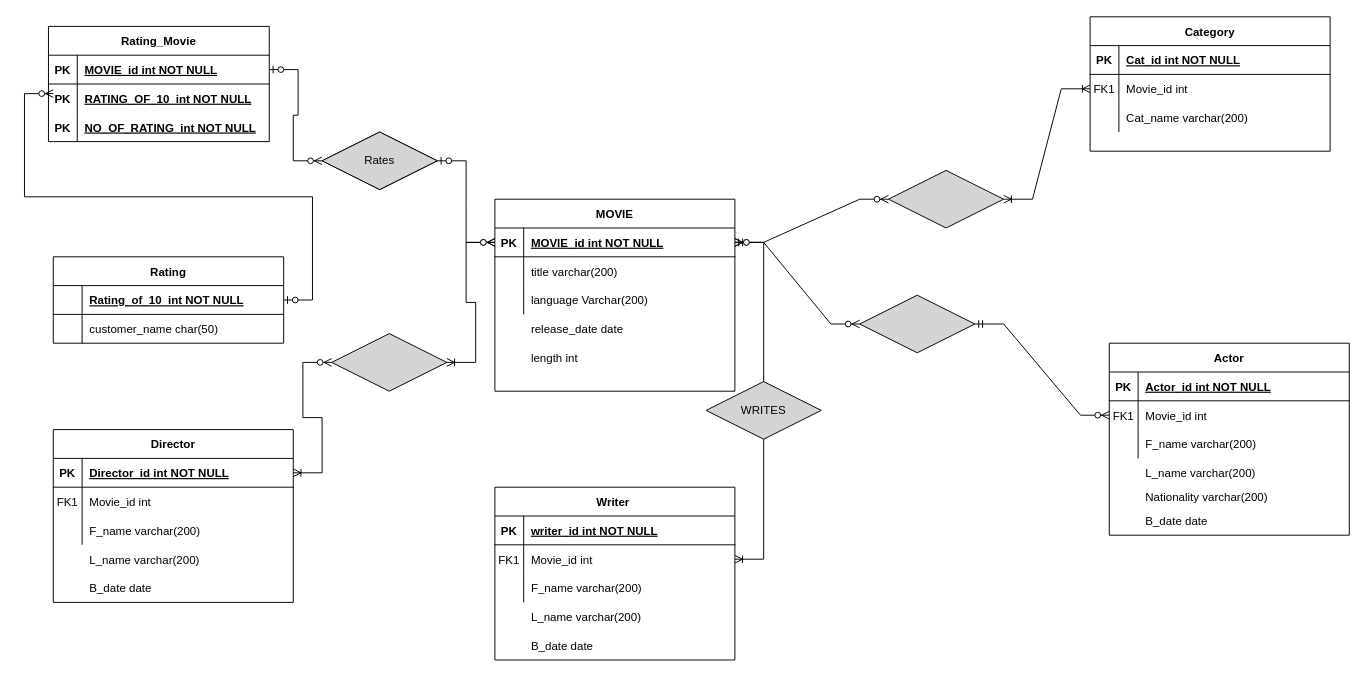
The diagram is 1366 pixels wide and 677 high, and some of its shapes have lost their labels. Each missing label, with the centre of its shape:
"ACTS" belongs at pixel 917 323.
"DIRECTS" belongs at pixel 389 362.
"HAS" belongs at pixel 946 198.
